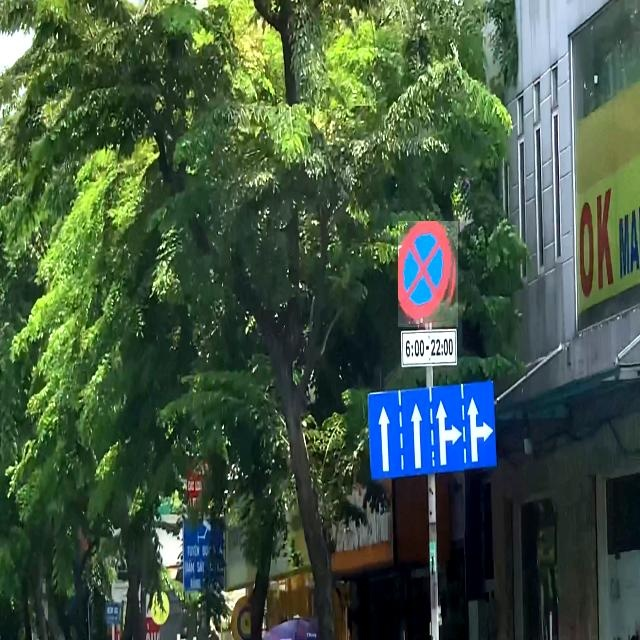bien_chi_dan: (398, 222, 458, 328)
